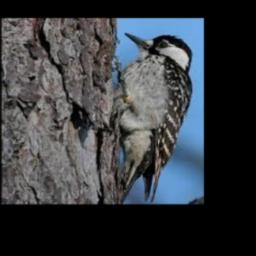Woodpecker: (92, 33, 194, 204)
